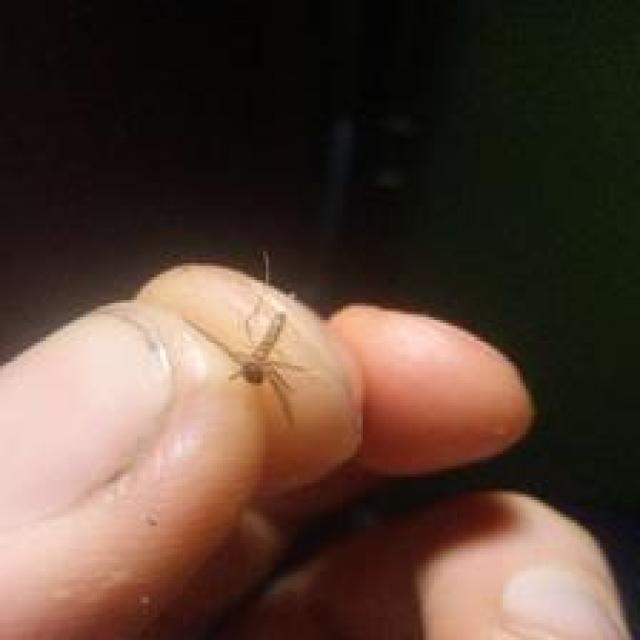Culex: (177, 250, 317, 430)
